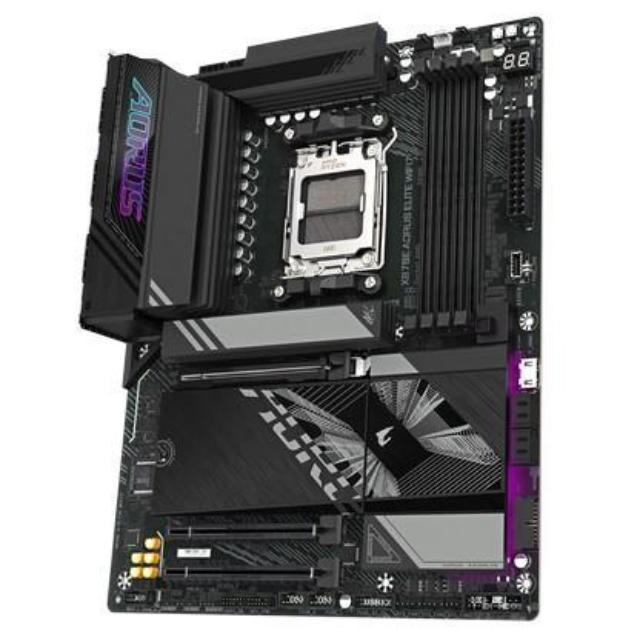Mainboard: (72, 11, 550, 628)
